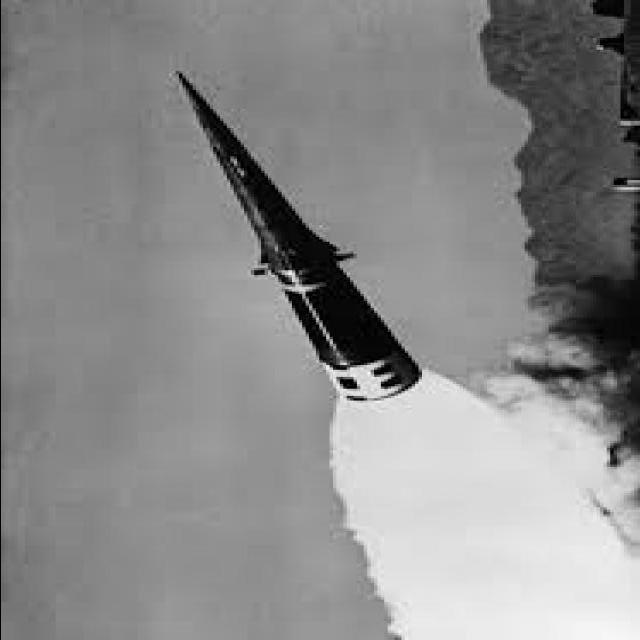missile: (167, 61, 427, 415)
